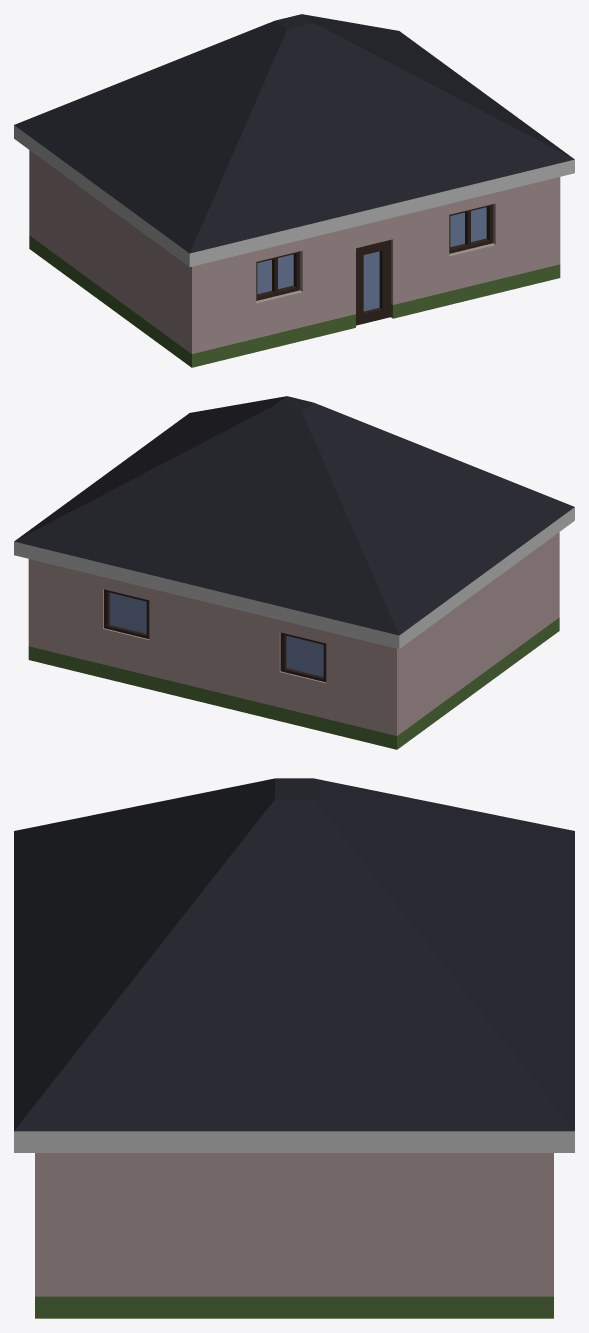
The model's file is FamilyHouse_01.fbx.
The picture shows the model from 3 angles, top to bottom: view 1: azimuth 30°, elevation 25°; view 2: azimuth 150°, elevation 25°; view 3: azimuth 270°, elevation 25°; orthographic projection. The views are drawn at different scales.
Parts seen in each view (by area): view 1: FamilyHouse_01; view 2: FamilyHouse_01; view 3: FamilyHouse_01.
Part boxes in pixels (x1,y1,x2,y2): FamilyHouse_01: (14,14,574,367); FamilyHouse_01: (14,396,574,749); FamilyHouse_01: (14,778,574,1318).
Bounding box in the file's own units: 11.87 × 7.11 × 9.38.
